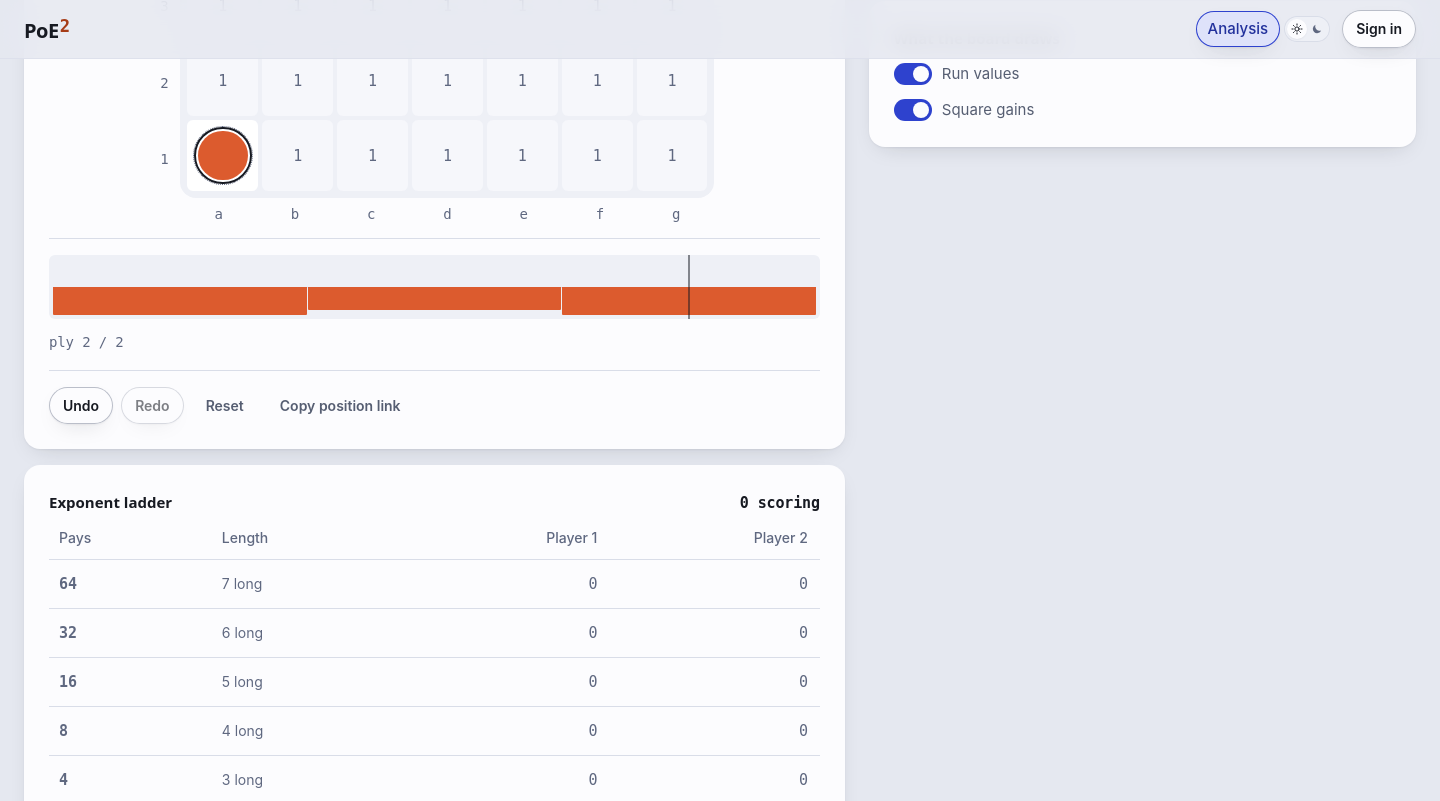
Test: analysis page › copies a canonical link for the current position
(page scrolled)
Click the button "Copy position link" at (340, 406), box [266,387,415,424]
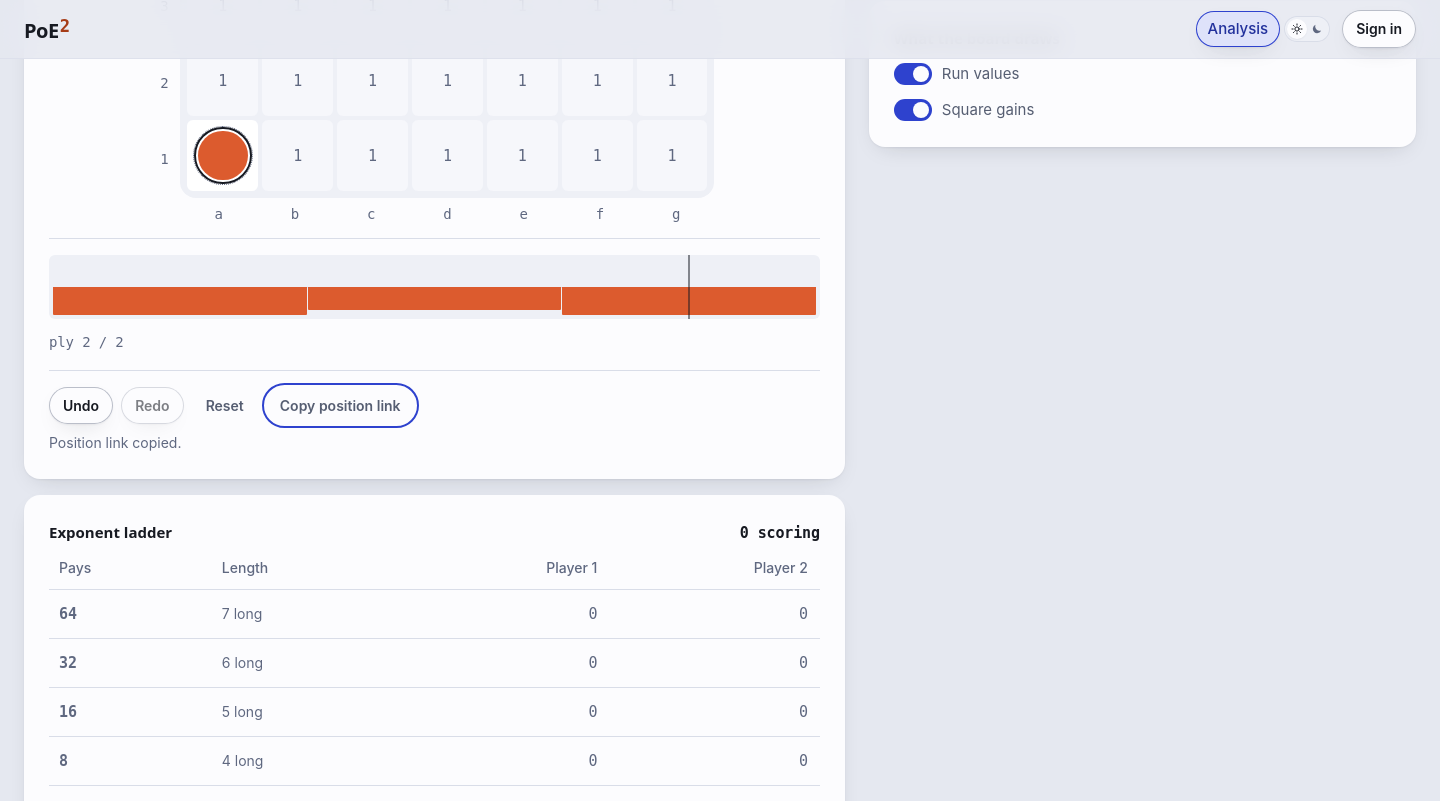
expect the message shows "Position link copied": met, box [49,434,181,451]
